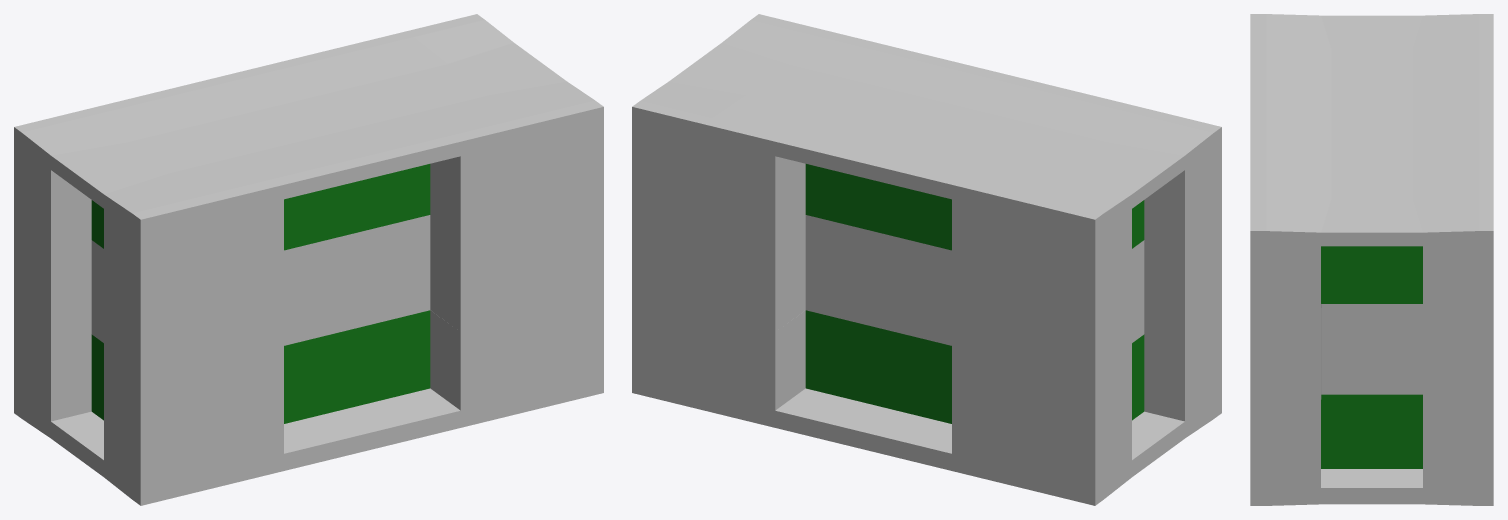
Rendered from energo.fbx.
The picture shows the model from 3 angles, left to right: view 1: azimuth 30°, elevation 25°; view 2: azimuth 150°, elevation 25°; view 3: azimuth 270°, elevation 25°; orthographic projection. The views are drawn at different scales.
Parts seen in each view (by area): view 1: Cube; view 2: Cube; view 3: Cube.
Boxes of the visible parts, left/top/right/bottom form: Cube: left=14, top=14, right=603, bottom=505; Cube: left=632, top=14, right=1221, bottom=505; Cube: left=1250, top=14, right=1493, bottom=505.
Bounding box in the file's own units: 302 × 178 × 143.
